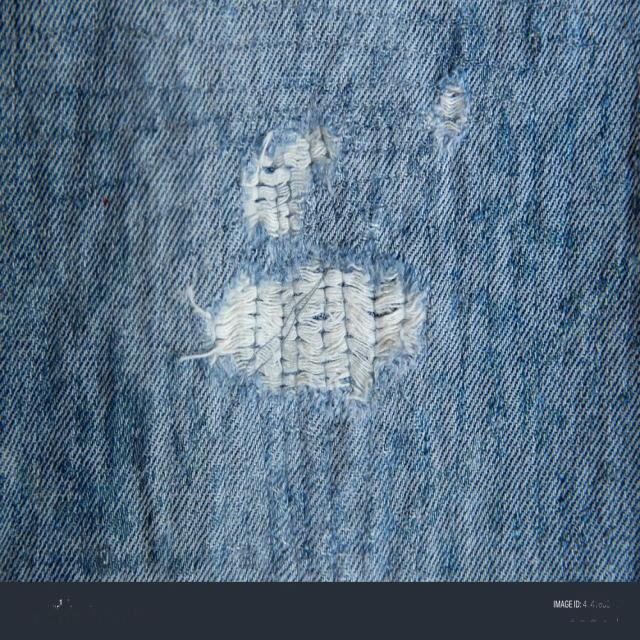Hole: (188, 263, 426, 402), (241, 126, 337, 237), (427, 68, 471, 154)
